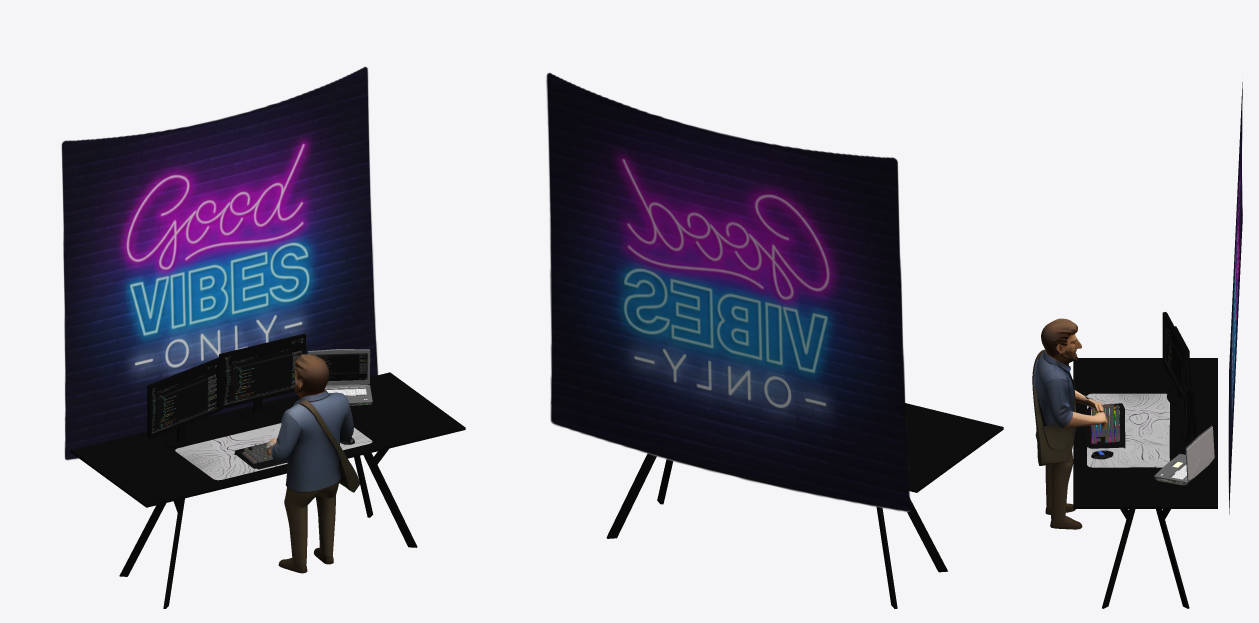
The model's file is dpglb.glb.
3 views of the same model, side by side, from view 1: azimuth 30°, elevation 25°; view 2: azimuth 150°, elevation 25°; view 3: azimuth 270°, elevation 25° (orthographic). The views are drawn at different scales.
Visible parts, largest first — view 1: Plane, Object_2, model, Rectangle001_Material #46_0, geometry_0.001, Rectangle001_Material #46_0.001, Line001__0.001, Plane.011, Line001__0, Plane.000, Plane004_13 - Default_0; view 2: Plane, Object_2; view 3: Object_2, model, geometry_0.001, Plane, Plane004_13 - Default_0, Plane.006, Rectangle001_Material #46_0.001, Line001__0.001, Line001__0, Plane.000.
Part boxes in pixels (left/top/right/bottom): Plane: left=61, top=66, right=378, bottom=460; Object_2: left=70, top=372, right=465, bottom=608; model: left=265, top=354, right=359, bottom=573; Rectangle001_Material #46_0: left=224, top=338, right=303, bottom=405; geometry_0.001: left=175, top=423, right=372, bottom=480; Rectangle001_Material #46_0.001: left=152, top=364, right=217, bottom=433; Line001__0.001: left=147, top=357, right=221, bottom=438; Plane.011: left=311, top=353, right=367, bottom=381; Line001__0: left=218, top=333, right=305, bottom=409; Plane.000: left=308, top=349, right=372, bottom=403; Plane004_13 - Default_0: left=234, top=442, right=287, bottom=469; Plane: left=546, top=73, right=910, bottom=512; Object_2: left=606, top=403, right=1003, bottom=608; Object_2: left=1073, top=358, right=1217, bottom=608; model: left=1032, top=318, right=1107, bottom=529; geometry_0.001: left=1087, top=393, right=1169, bottom=467; Plane: left=1228, top=82, right=1242, bottom=514; Plane004_13 - Default_0: left=1085, top=403, right=1125, bottom=448; Plane.006: left=1186, top=427, right=1214, bottom=481; Rectangle001_Material #46_0.001: left=1165, top=321, right=1182, bottom=391; Line001__0.001: left=1162, top=312, right=1189, bottom=399; Line001__0: left=1184, top=347, right=1194, bottom=440; Plane.000: left=1154, top=425, right=1212, bottom=484.
Size of the model in its own units: 76.47 by 84.92 by 37.
Materials: 23 (7 with a texture image).
